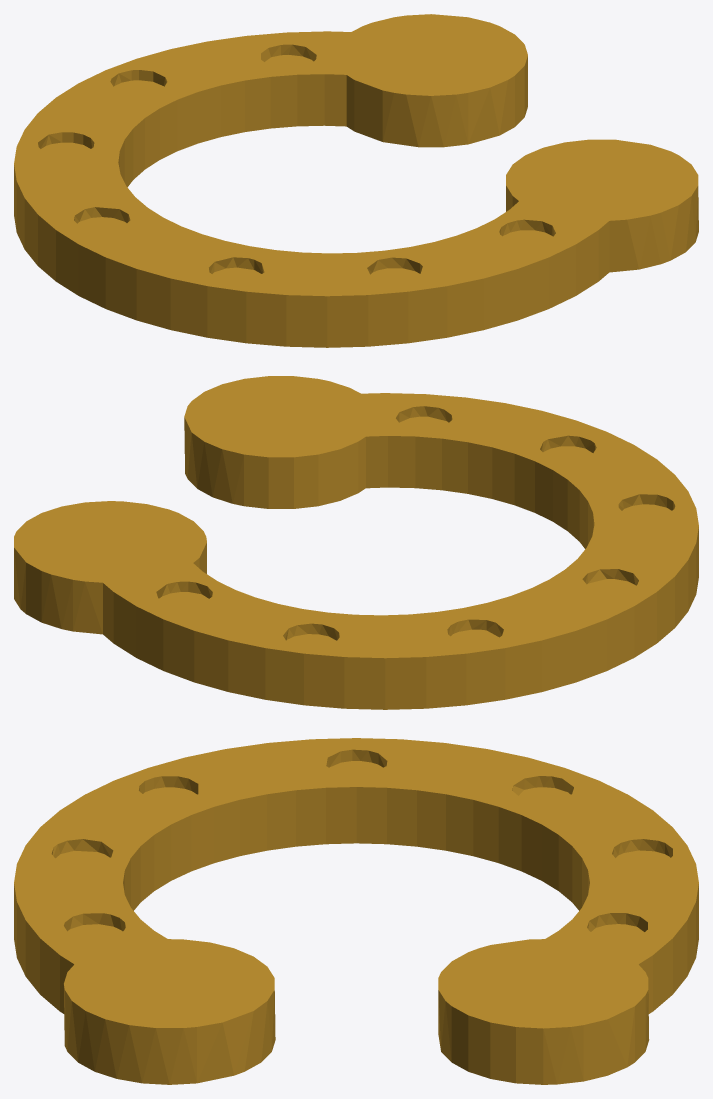
The model's file is goldenHorseshoe.glb.
3 renders of one model, top to bottom at view 1: azimuth 30°, elevation 25°; view 2: azimuth 150°, elevation 25°; view 3: azimuth 270°, elevation 25°, orthographic. The views are drawn at different scales.
Parts seen in each view (by area): view 1: Mesh_Mesh_head_geo001_lambert2SG001; view 2: Mesh_Mesh_head_geo001_lambert2SG001; view 3: Mesh_Mesh_head_geo001_lambert2SG001.
Part boxes in pixels (<box>): Mesh_Mesh_head_geo001_lambert2SG001: <box>14,14,698,347</box>; Mesh_Mesh_head_geo001_lambert2SG001: <box>14,376,698,709</box>; Mesh_Mesh_head_geo001_lambert2SG001: <box>14,738,698,1084</box>.
Size of the model in its own units: 55.19 by 5 by 55.
